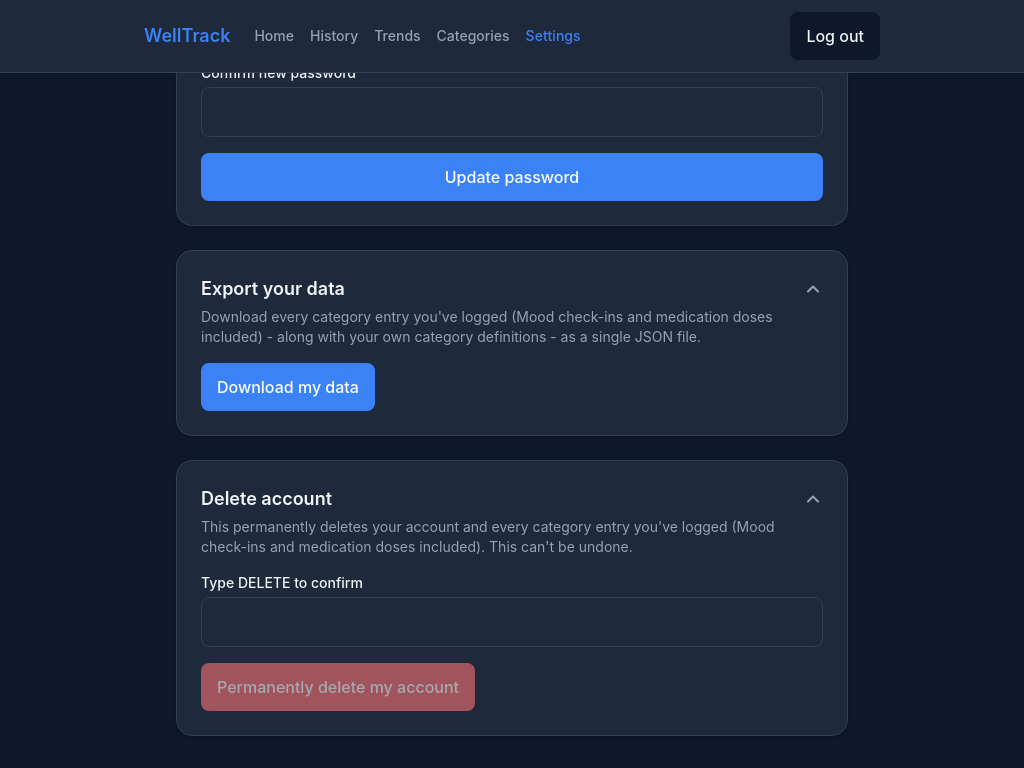
Test: SettingsPage — export data › shows an error if the export request fails
This screenshot has width=1024, height=768.
(page scrolled)
Step 1. Click the button "Download my data" → [288, 387], box [201,363,375,411]
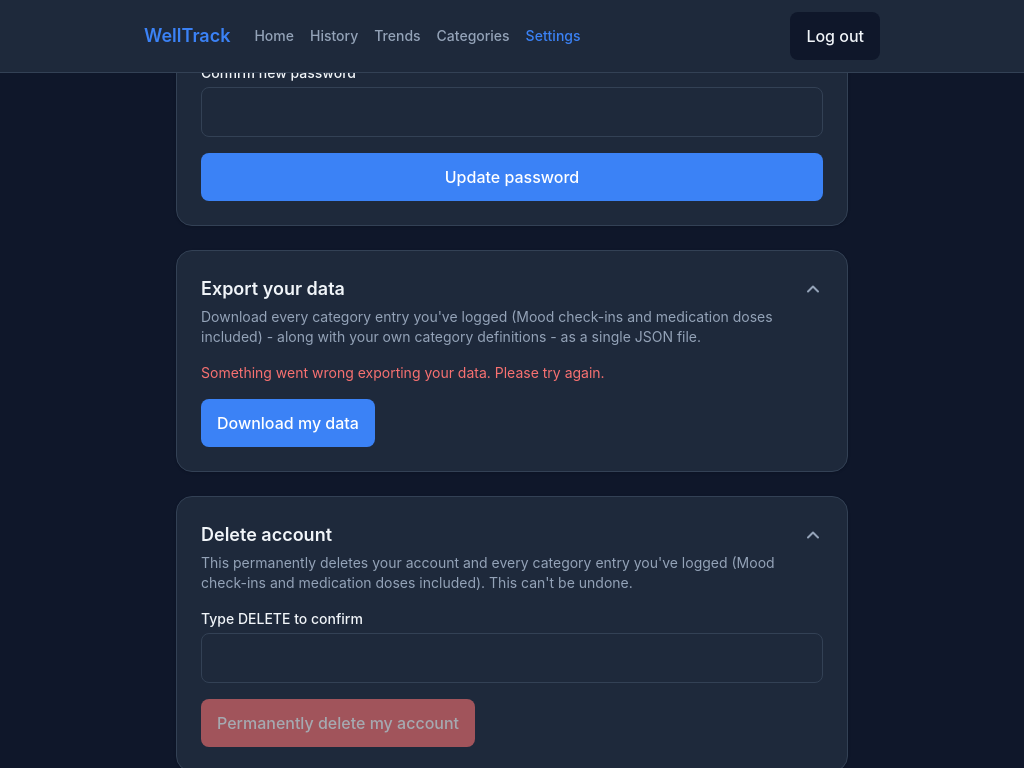
expect the text "Something went wrong exporting your data. Please try again." is shown: met, box [201,364,605,381]
